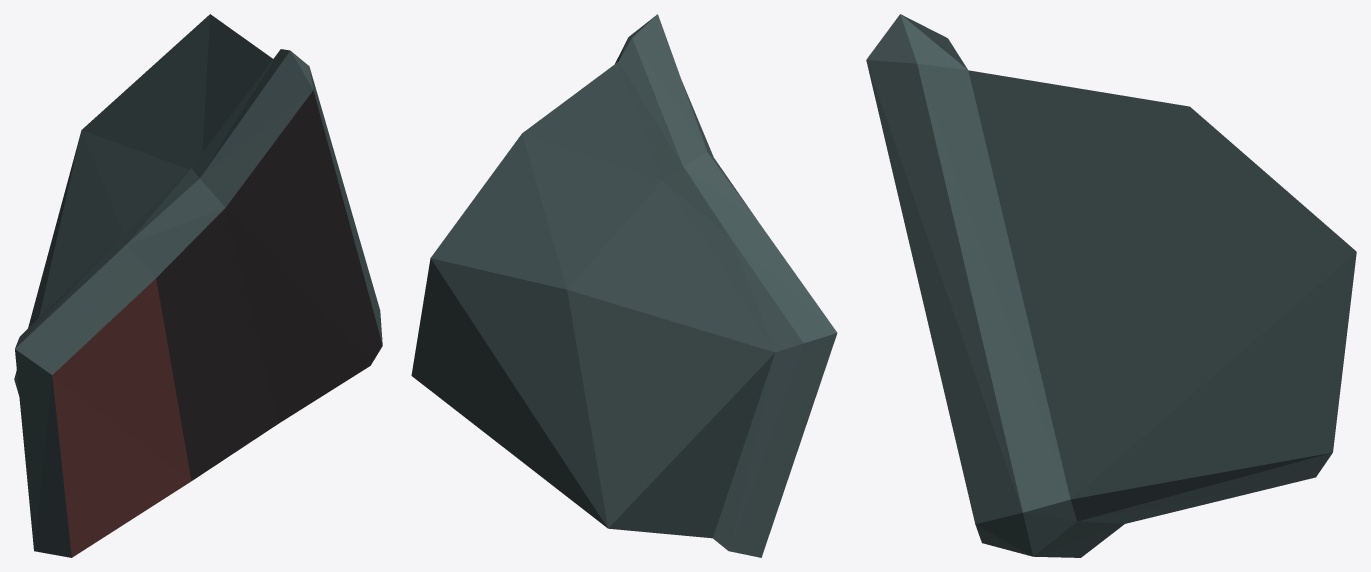
The model's file is zebak_rock.glb.
3 renders of one model, left to right at view 1: azimuth 30°, elevation 25°; view 2: azimuth 150°, elevation 25°; view 3: azimuth 270°, elevation 25°, orthographic. The views are drawn at different scales.
Bounding box in the file's own units: 160 × 206 × 144.
Materials: 1 (1 with a texture image).
